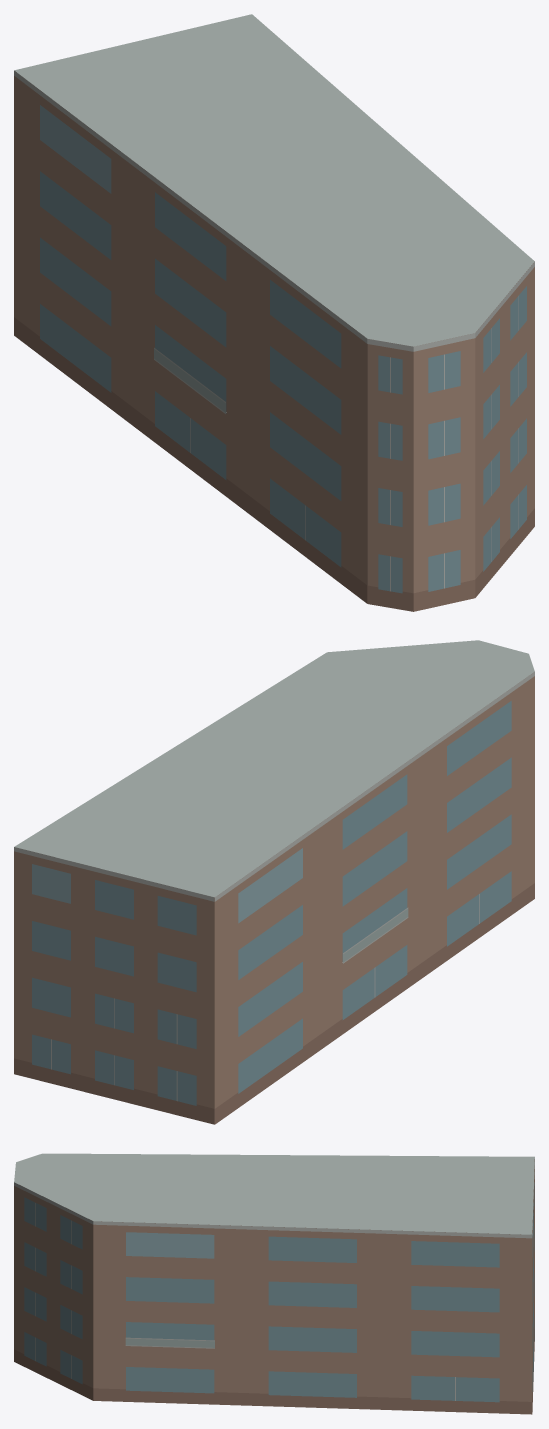
File: survey-upis-32641033.glb
The picture shows the model from 3 angles, top to bottom: view 1: azimuth 30°, elevation 25°; view 2: azimuth 150°, elevation 25°; view 3: azimuth 270°, elevation 25°; orthographic projection. The views are drawn at different scales.
Parts seen in each view (by area): view 1: survey-upis-32641033.tmp; view 2: survey-upis-32641033.tmp; view 3: survey-upis-32641033.tmp.
Boxes of the visible parts, x1,y1,x2,y2 form: survey-upis-32641033.tmp: (14,14,534,611); survey-upis-32641033.tmp: (14,640,534,1124); survey-upis-32641033.tmp: (14,1153,534,1414).
Bounding box in the file's own units: 12.05 × 12.4 × 32.59.
